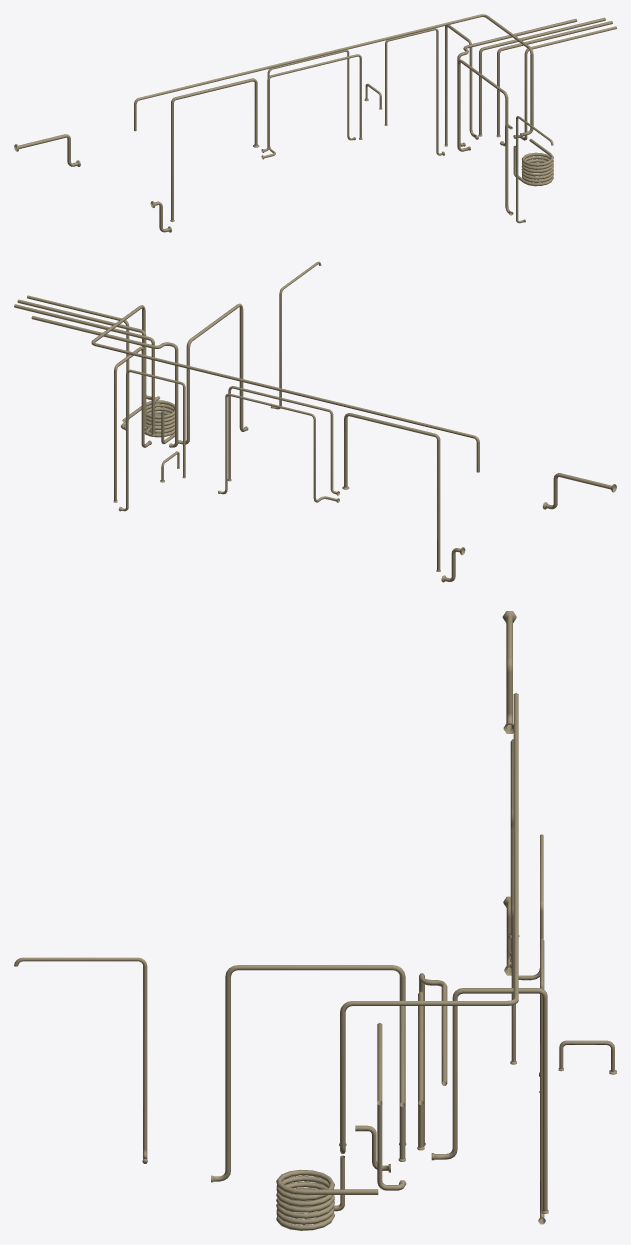
Rendered from MLP_Canos.glb.
3 renders of one model, top to bottom at view 1: azimuth 30°, elevation 25°; view 2: azimuth 150°, elevation 25°; view 3: azimuth 270°, elevation 25°, orthographic. The views are drawn at different scales.
Parts seen in each view (by area): view 1: Circle.020, Circle.003, Circle.015, Circle.005, Circle.011, Circle.009, Circle.006, Circle.014, Circle.012, Circle.013, Circle.007, Circle.016 (+2 smaller); view 2: Circle.020, Circle.015, Circle.005, Circle.003, Circle.016, Circle.006, Circle.011, Circle.014, Circle.007, Circle.009, Circle.012, Circle.013 (+2 smaller); view 3: Circle.003, Circle.020, Circle.011, Circle.015, Circle.018, Circle.013, Circle.012, Circle.016, Circle.009, Circle.017, Circle.014.
Boxes of the visible parts, x1=… form: Circle.020: x1=134, y1=14, x2=533, y2=136; Circle.003: x1=513, y1=139, x2=553, y2=186; Circle.015: x1=457, y1=59, x2=513, y2=215; Circle.005: x1=170, y1=78, x2=259, y2=221; Circle.011: x1=444, y1=25, x2=478, y2=146; Circle.009: x1=384, y1=28, x2=444, y2=155; Circle.006: x1=261, y1=54, x2=362, y2=152; Circle.014: x1=478, y1=17, x2=605, y2=136; Circle.012: x1=496, y1=21, x2=612, y2=137; Circle.013: x1=513, y1=26, x2=616, y2=140; Circle.007: x1=261, y1=50, x2=355, y2=159; Circle.016: x1=457, y1=19, x2=577, y2=146; Circle.020: x1=91, y1=305, x2=479, y2=472; Circle.015: x1=178, y1=303, x2=248, y2=444; Circle.005: x1=342, y1=413, x2=440, y2=571; Circle.003: x1=122, y1=400, x2=174, y2=443; Circle.016: x1=31, y1=316, x2=178, y2=447; Circle.006: x1=227, y1=386, x2=339, y2=495; Circle.011: x1=113, y1=346, x2=151, y2=502; Circle.014: x1=14, y1=304, x2=155, y2=436; Circle.007: x1=218, y1=393, x2=339, y2=502; Circle.009: x1=118, y1=369, x2=185, y2=511; Circle.012: x1=17, y1=299, x2=146, y2=428; Circle.013: x1=27, y1=295, x2=129, y2=430; Circle.003: x1=276, y1=1155, x2=378, y2=1230; Circle.020: x1=339, y1=693, x2=518, y2=1153; Circle.011: x1=431, y1=988, x2=548, y2=1213; Circle.015: x1=211, y1=965, x2=406, y2=1182; Circle.018: x1=14, y1=957, x2=147, y2=1163; Circle.013: x1=377, y1=1023, x2=406, y2=1190; Circle.012: x1=398, y1=1006, x2=405, y2=1161; Circle.016: x1=419, y1=973, x2=447, y2=1146; Circle.009: x1=538, y1=938, x2=545, y2=1224; Circle.017: x1=502, y1=611, x2=516, y2=733; Circle.014: x1=417, y1=991, x2=424, y2=1150.
Size of the model in its own units: 14.3 by 3.38 by 7.22.
